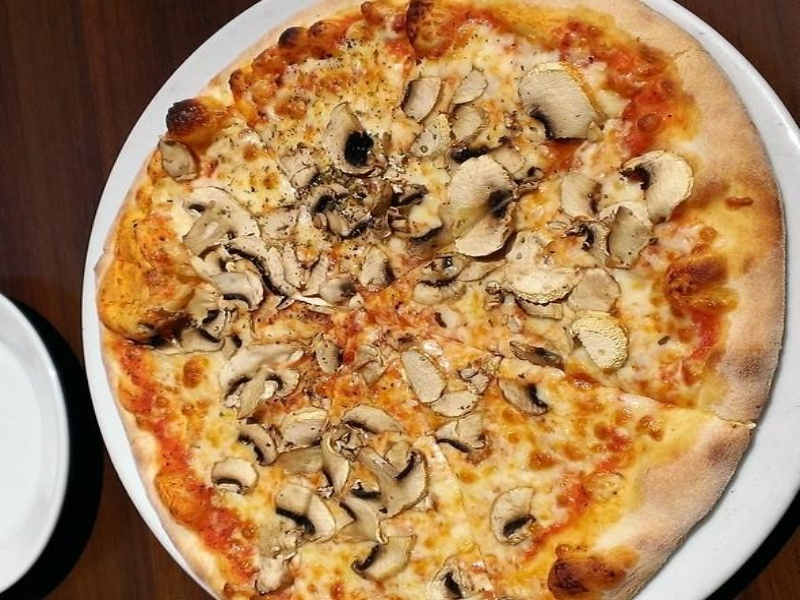champignon: (444, 151, 526, 266), (175, 183, 264, 265), (347, 444, 438, 520)
